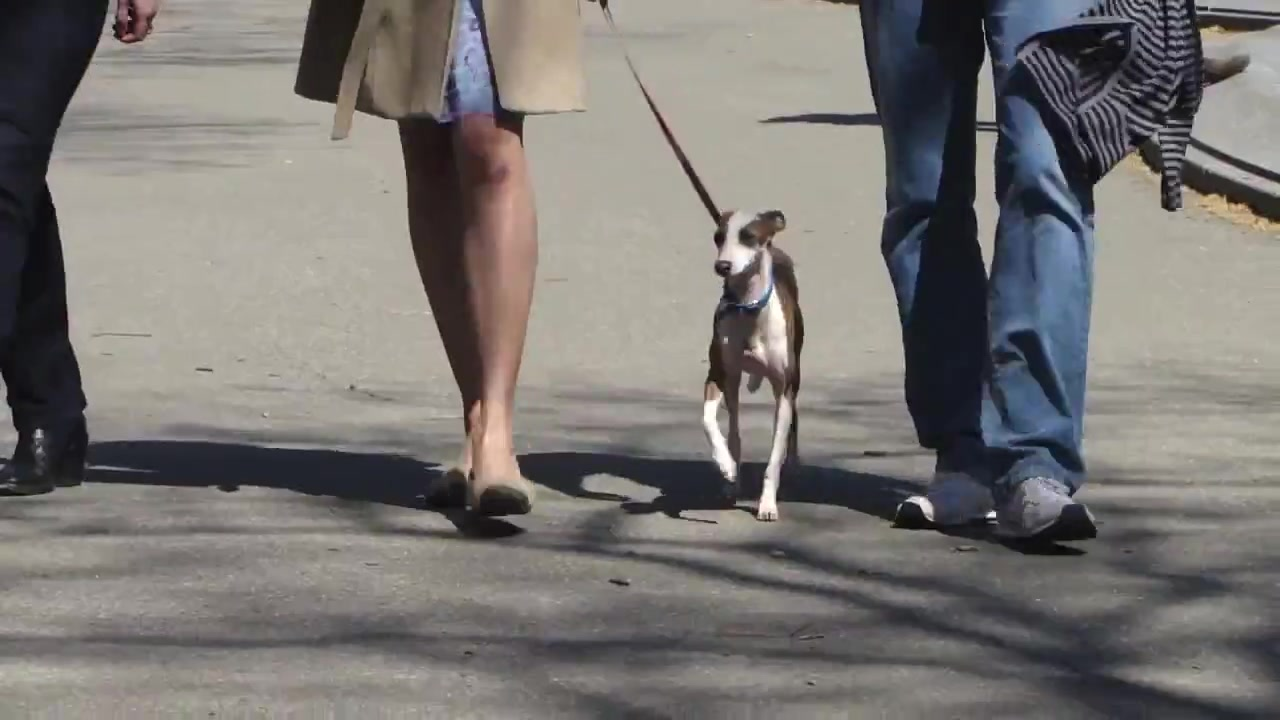dog: (701, 205, 806, 524)
